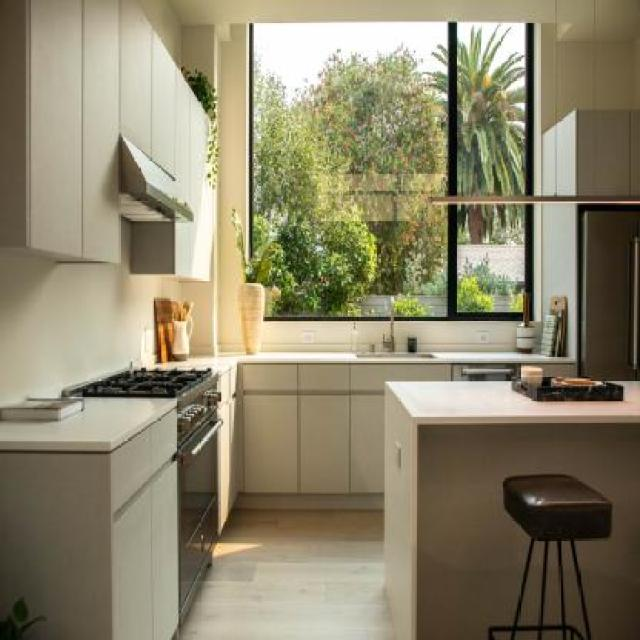floor: (174, 508, 407, 640)
